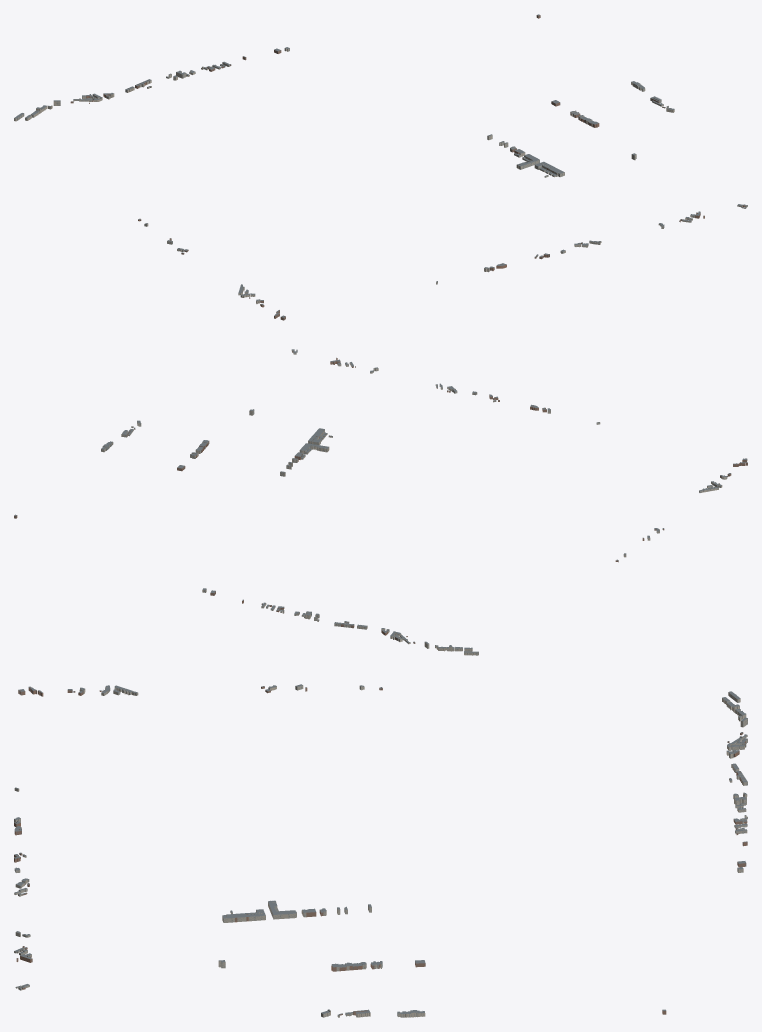
The model's file is buildings_supplement.glb.
The picture shows the model from 3 angles, top to bottom: view 1: azimuth 30°, elevation 25°; view 2: azimuth 150°, elevation 25°; view 3: azimuth 270°, elevation 25°; orthographic projection. The views are drawn at different scales.
Size of the model in its own units: 2585 by 22.6 by 2430.
